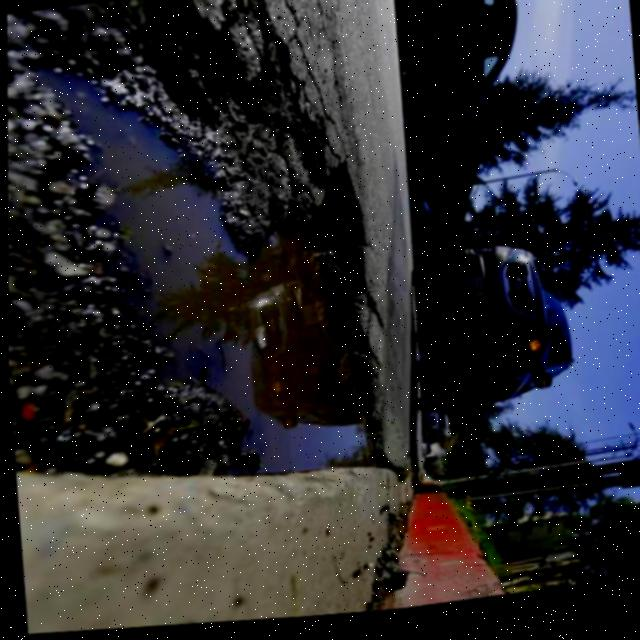Pothole: (127, 170, 405, 489)
